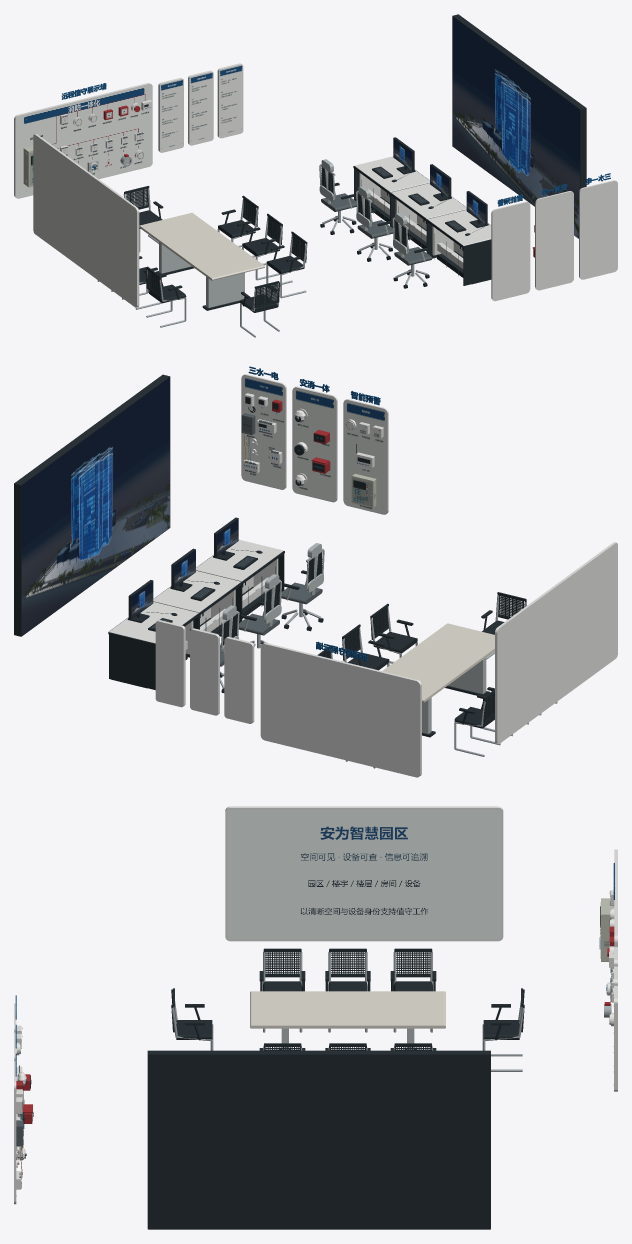
File: fire-stage-lod0.glb
3 views of the same model, one above another, from view 1: azimuth 30°, elevation 25°; view 2: azimuth 150°, elevation 25°; view 3: azimuth 270°, elevation 25° (orthographic). The views are drawn at different scales.
Parts seen in each view (by area): view 1: V6_STAGE_FC_PAINTED, V6_STAGE_TEX_screen-main, V6_STAGE_FC_DARK, V6_STAGE_TEX_board-01, V6_STAGE_FC_METAL, V6_STAGE_TEX_rules-01, V6_STAGE_TEX_rules-03, V6_STAGE_TEX_rules-02, V6_STAGE_FC_BLUE; view 2: V6_STAGE_FC_PAINTED, V6_STAGE_TEX_screen-main, V6_STAGE_FC_DARK, V6_STAGE_TEX_board-03, V6_STAGE_TEX_board-02, V6_STAGE_TEX_board-04, V6_STAGE_FC_METAL, V6_STAGE_FC_BLUE; view 3: V6_STAGE_FC_DARK, V6_STAGE_TEX_company, V6_STAGE_FC_PAINTED, V6_STAGE_FC_METAL.
Boxes of the visible parts, box(x1,y1,x2,y2) form: V6_STAGE_FC_PAINTED: box(14, 63, 617, 307); V6_STAGE_TEX_screen-main: box(452, 16, 579, 238); V6_STAGE_FC_DARK: box(31, 14, 586, 312); V6_STAGE_TEX_board-01: box(16, 84, 151, 198); V6_STAGE_FC_METAL: box(25, 69, 451, 337); V6_STAGE_TEX_rules-01: box(160, 79, 183, 152); V6_STAGE_TEX_rules-03: box(219, 65, 242, 137); V6_STAGE_TEX_rules-02: box(190, 72, 212, 145); V6_STAGE_FC_BLUE: box(61, 83, 610, 206); V6_STAGE_FC_PAINTED: box(109, 374, 617, 777); V6_STAGE_TEX_screen-main: box(21, 377, 169, 635); V6_STAGE_FC_DARK: box(14, 374, 526, 737); V6_STAGE_TEX_board-03: box(293, 388, 335, 501); V6_STAGE_TEX_board-02: box(242, 375, 284, 489); V6_STAGE_TEX_board-04: box(344, 400, 386, 514); V6_STAGE_FC_METAL: box(185, 382, 557, 768); V6_STAGE_FC_BLUE: box(248, 366, 380, 661); V6_STAGE_FC_DARK: box(18, 891, 612, 1229); V6_STAGE_TEX_company: box(227, 809, 501, 939); V6_STAGE_FC_PAINTED: box(14, 806, 617, 1204); V6_STAGE_FC_METAL: box(16, 862, 614, 1195).
Size of the model in its own units: 7.95 by 2.86 by 7.39.
Materials: 18 (13 with a texture image).
